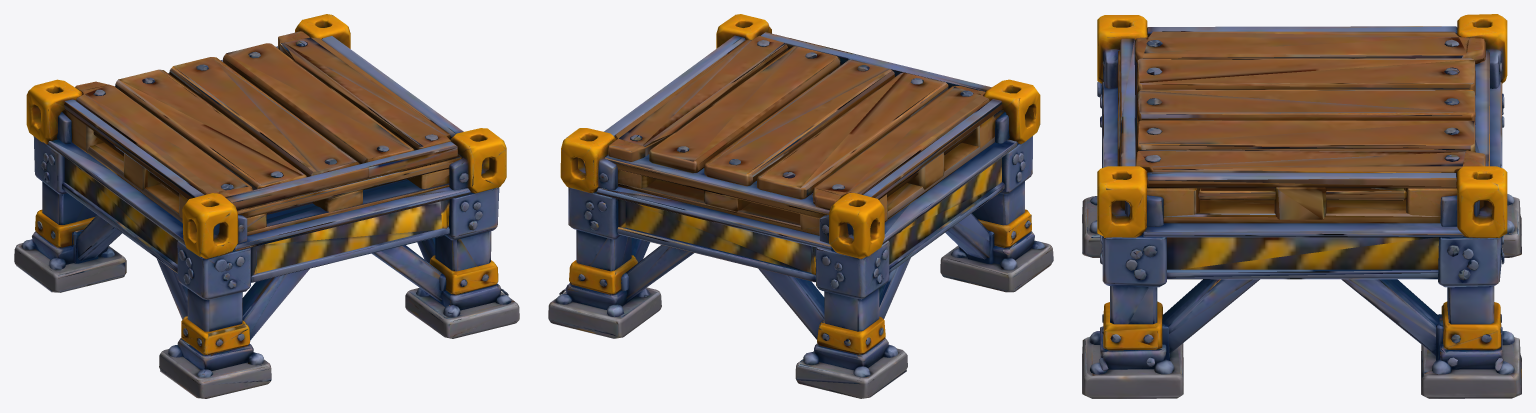
The model's file is cargo_pallet_stand.glb.
3 renders of one model, left to right at view 1: azimuth 30°, elevation 25°; view 2: azimuth 150°, elevation 25°; view 3: azimuth 270°, elevation 25°, orthographic. The views are drawn at different scales.
Size of what is drawn, in the model's own units: 1.87 by 1 by 1.91.
1 material, 1 textured.
